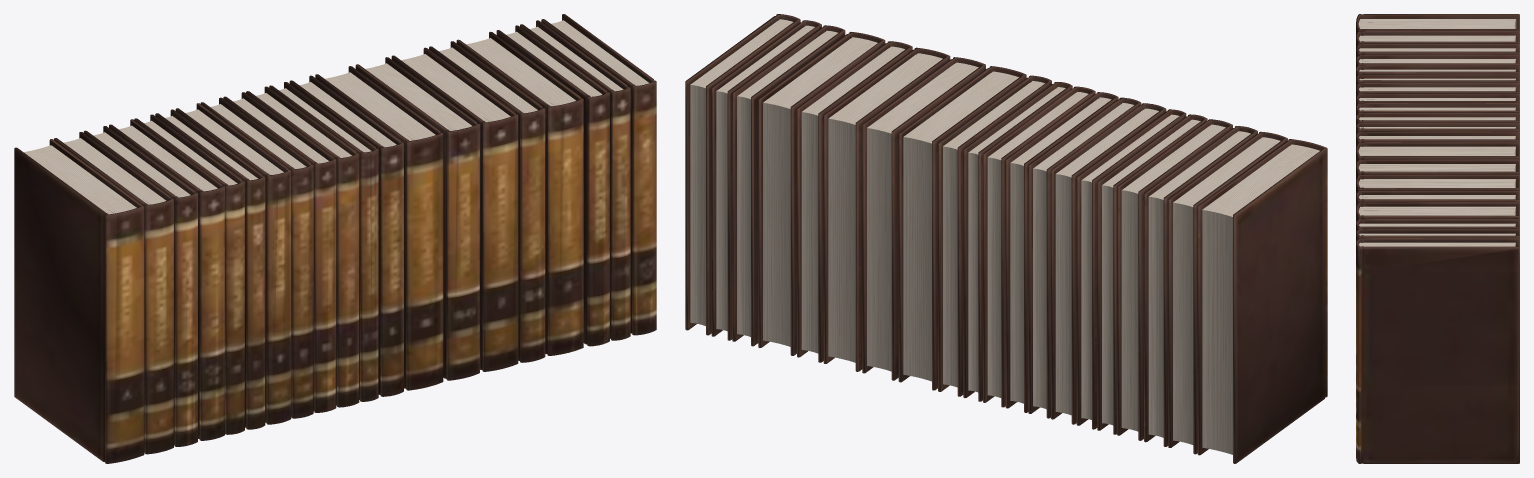
Rendered from book_set.glb.
The picture shows the model from 3 angles, left to right: view 1: azimuth 30°, elevation 25°; view 2: azimuth 150°, elevation 25°; view 3: azimuth 270°, elevation 25°; orthographic projection. The views are drawn at different scales.
Visible parts, largest first — view 1: book_encyclopedia_set_01_book01; view 2: book_encyclopedia_set_01_book01; view 3: book_encyclopedia_set_01_book01.
Part boxes in pixels (x1,y1,x2,y2): book_encyclopedia_set_01_book01: [14, 14, 656, 463]; book_encyclopedia_set_01_book01: [685, 14, 1327, 463]; book_encyclopedia_set_01_book01: [1356, 14, 1519, 463].
Bounding box in the file's own units: 0.5513 × 0.2374 × 0.1631.
Materials: 2 (2 with a texture image).
